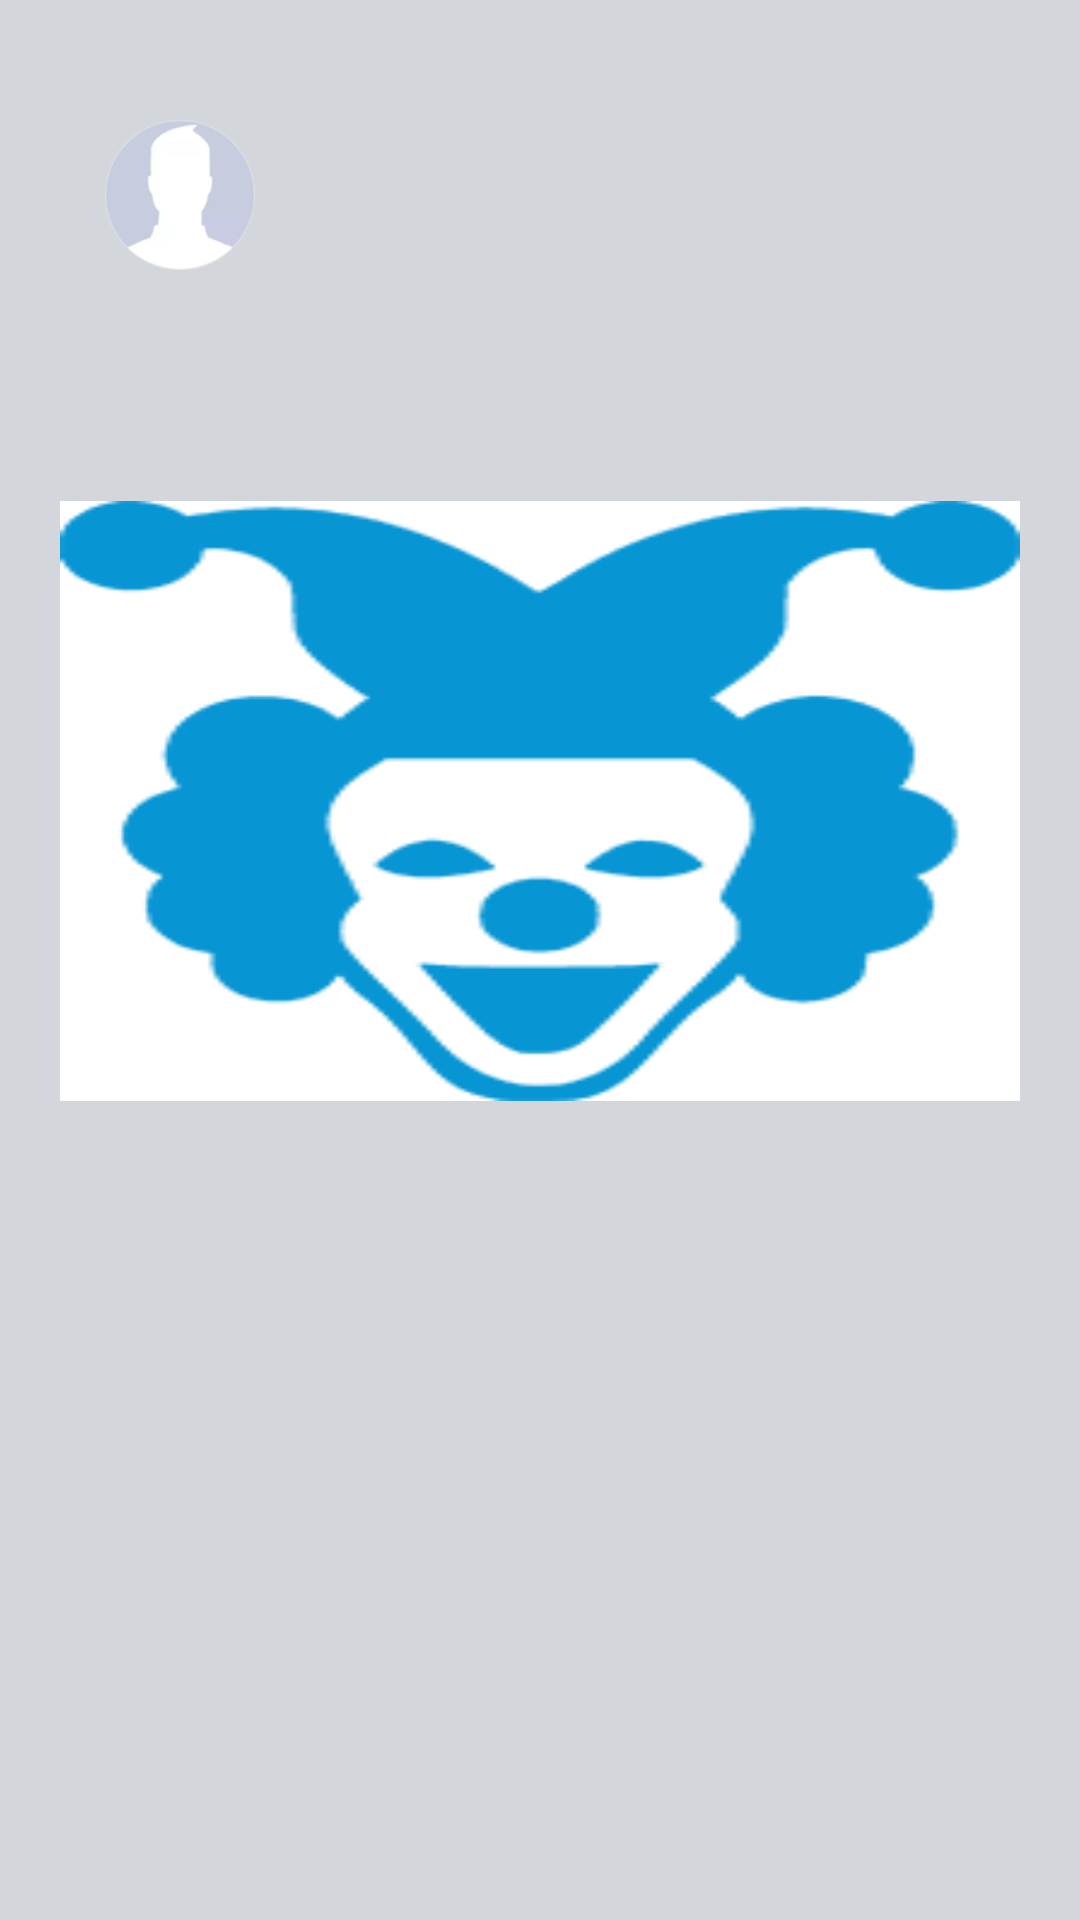

Where icons sit on this 1080 x 1920 app screen, as (x1, y1, x2, y2):
entrant profile pic: (128, 125, 232, 269)
